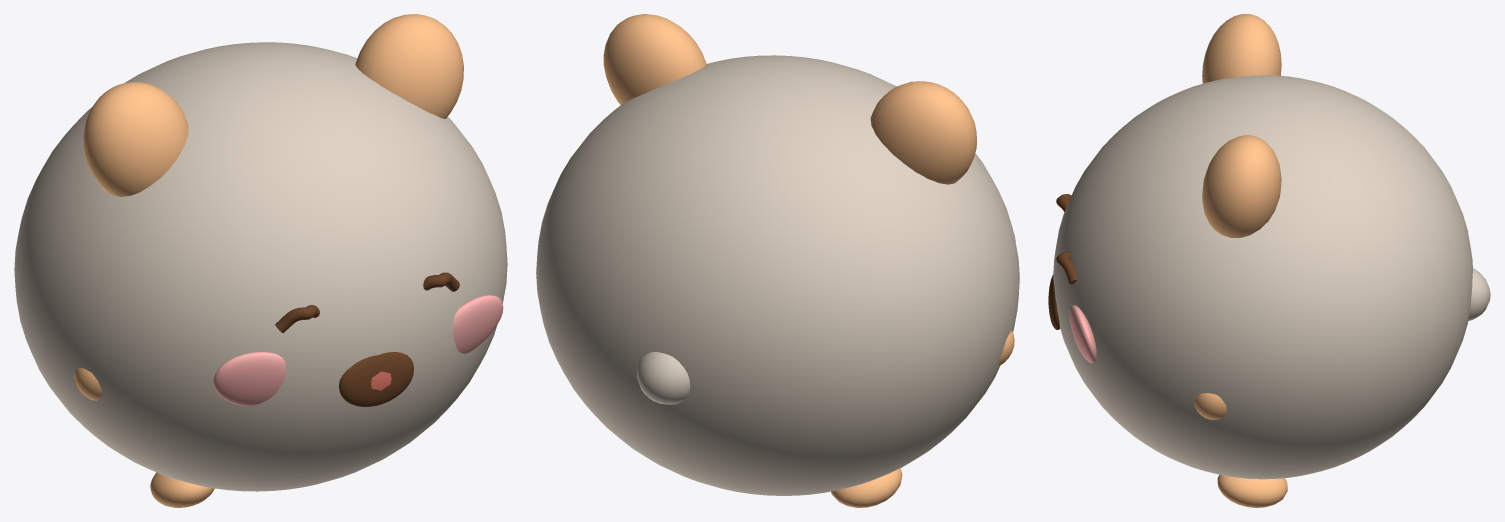
The model's file is golumolu_v004.fbx.
The picture shows the model from 3 angles, left to right: view 1: azimuth 30°, elevation 25°; view 2: azimuth 150°, elevation 25°; view 3: azimuth 270°, elevation 25°; orthographic projection. The views are drawn at different scales.
Parts seen in each view (by area): view 1: Golumolu_Body, Golumolu_Ear_L, Golumolu_Ear_R, Golumolu_Cheek_L, Golumolu_Mouth_Rim, Golumolu_Cheek_R, Golumolu_Foot_L, Golumolu_Hand_L, Golumolu_Eye_L; view 2: Golumolu_Body, Golumolu_Ear_L, Golumolu_Ear_R, Golumolu_Tail, Golumolu_Foot_L; view 3: Golumolu_Body, Golumolu_Ear_R, Golumolu_Ear_L, Golumolu_Foot_R, Golumolu_Cheek_R, Golumolu_Tail, Golumolu_Hand_R.
Part boxes in pixels (<box>): Golumolu_Body: <box>14,42,507,491</box>; Golumolu_Ear_L: <box>83,82,188,196</box>; Golumolu_Ear_R: <box>355,14,463,118</box>; Golumolu_Cheek_L: <box>213,352,286,406</box>; Golumolu_Mouth_Rim: <box>339,352,413,406</box>; Golumolu_Cheek_R: <box>453,295,503,353</box>; Golumolu_Foot_L: <box>150,472,214,507</box>; Golumolu_Hand_L: <box>74,367,101,400</box>; Golumolu_Eye_L: <box>275,305,319,333</box>; Golumolu_Body: <box>536,55,1019,495</box>; Golumolu_Ear_L: <box>870,81,976,184</box>; Golumolu_Ear_R: <box>603,14,706,104</box>; Golumolu_Tail: <box>637,352,690,404</box>; Golumolu_Foot_L: <box>831,468,902,507</box>; Golumolu_Body: <box>1053,75,1472,479</box>; Golumolu_Ear_R: <box>1202,135,1281,237</box>; Golumolu_Ear_L: <box>1202,14,1281,83</box>; Golumolu_Foot_R: <box>1217,474,1287,507</box>; Golumolu_Cheek_R: <box>1069,305,1096,363</box>; Golumolu_Tail: <box>1468,268,1490,320</box>; Golumolu_Hand_R: <box>1194,393,1226,419</box>.
Size of the model in its own units: 208 by 200 by 206.
